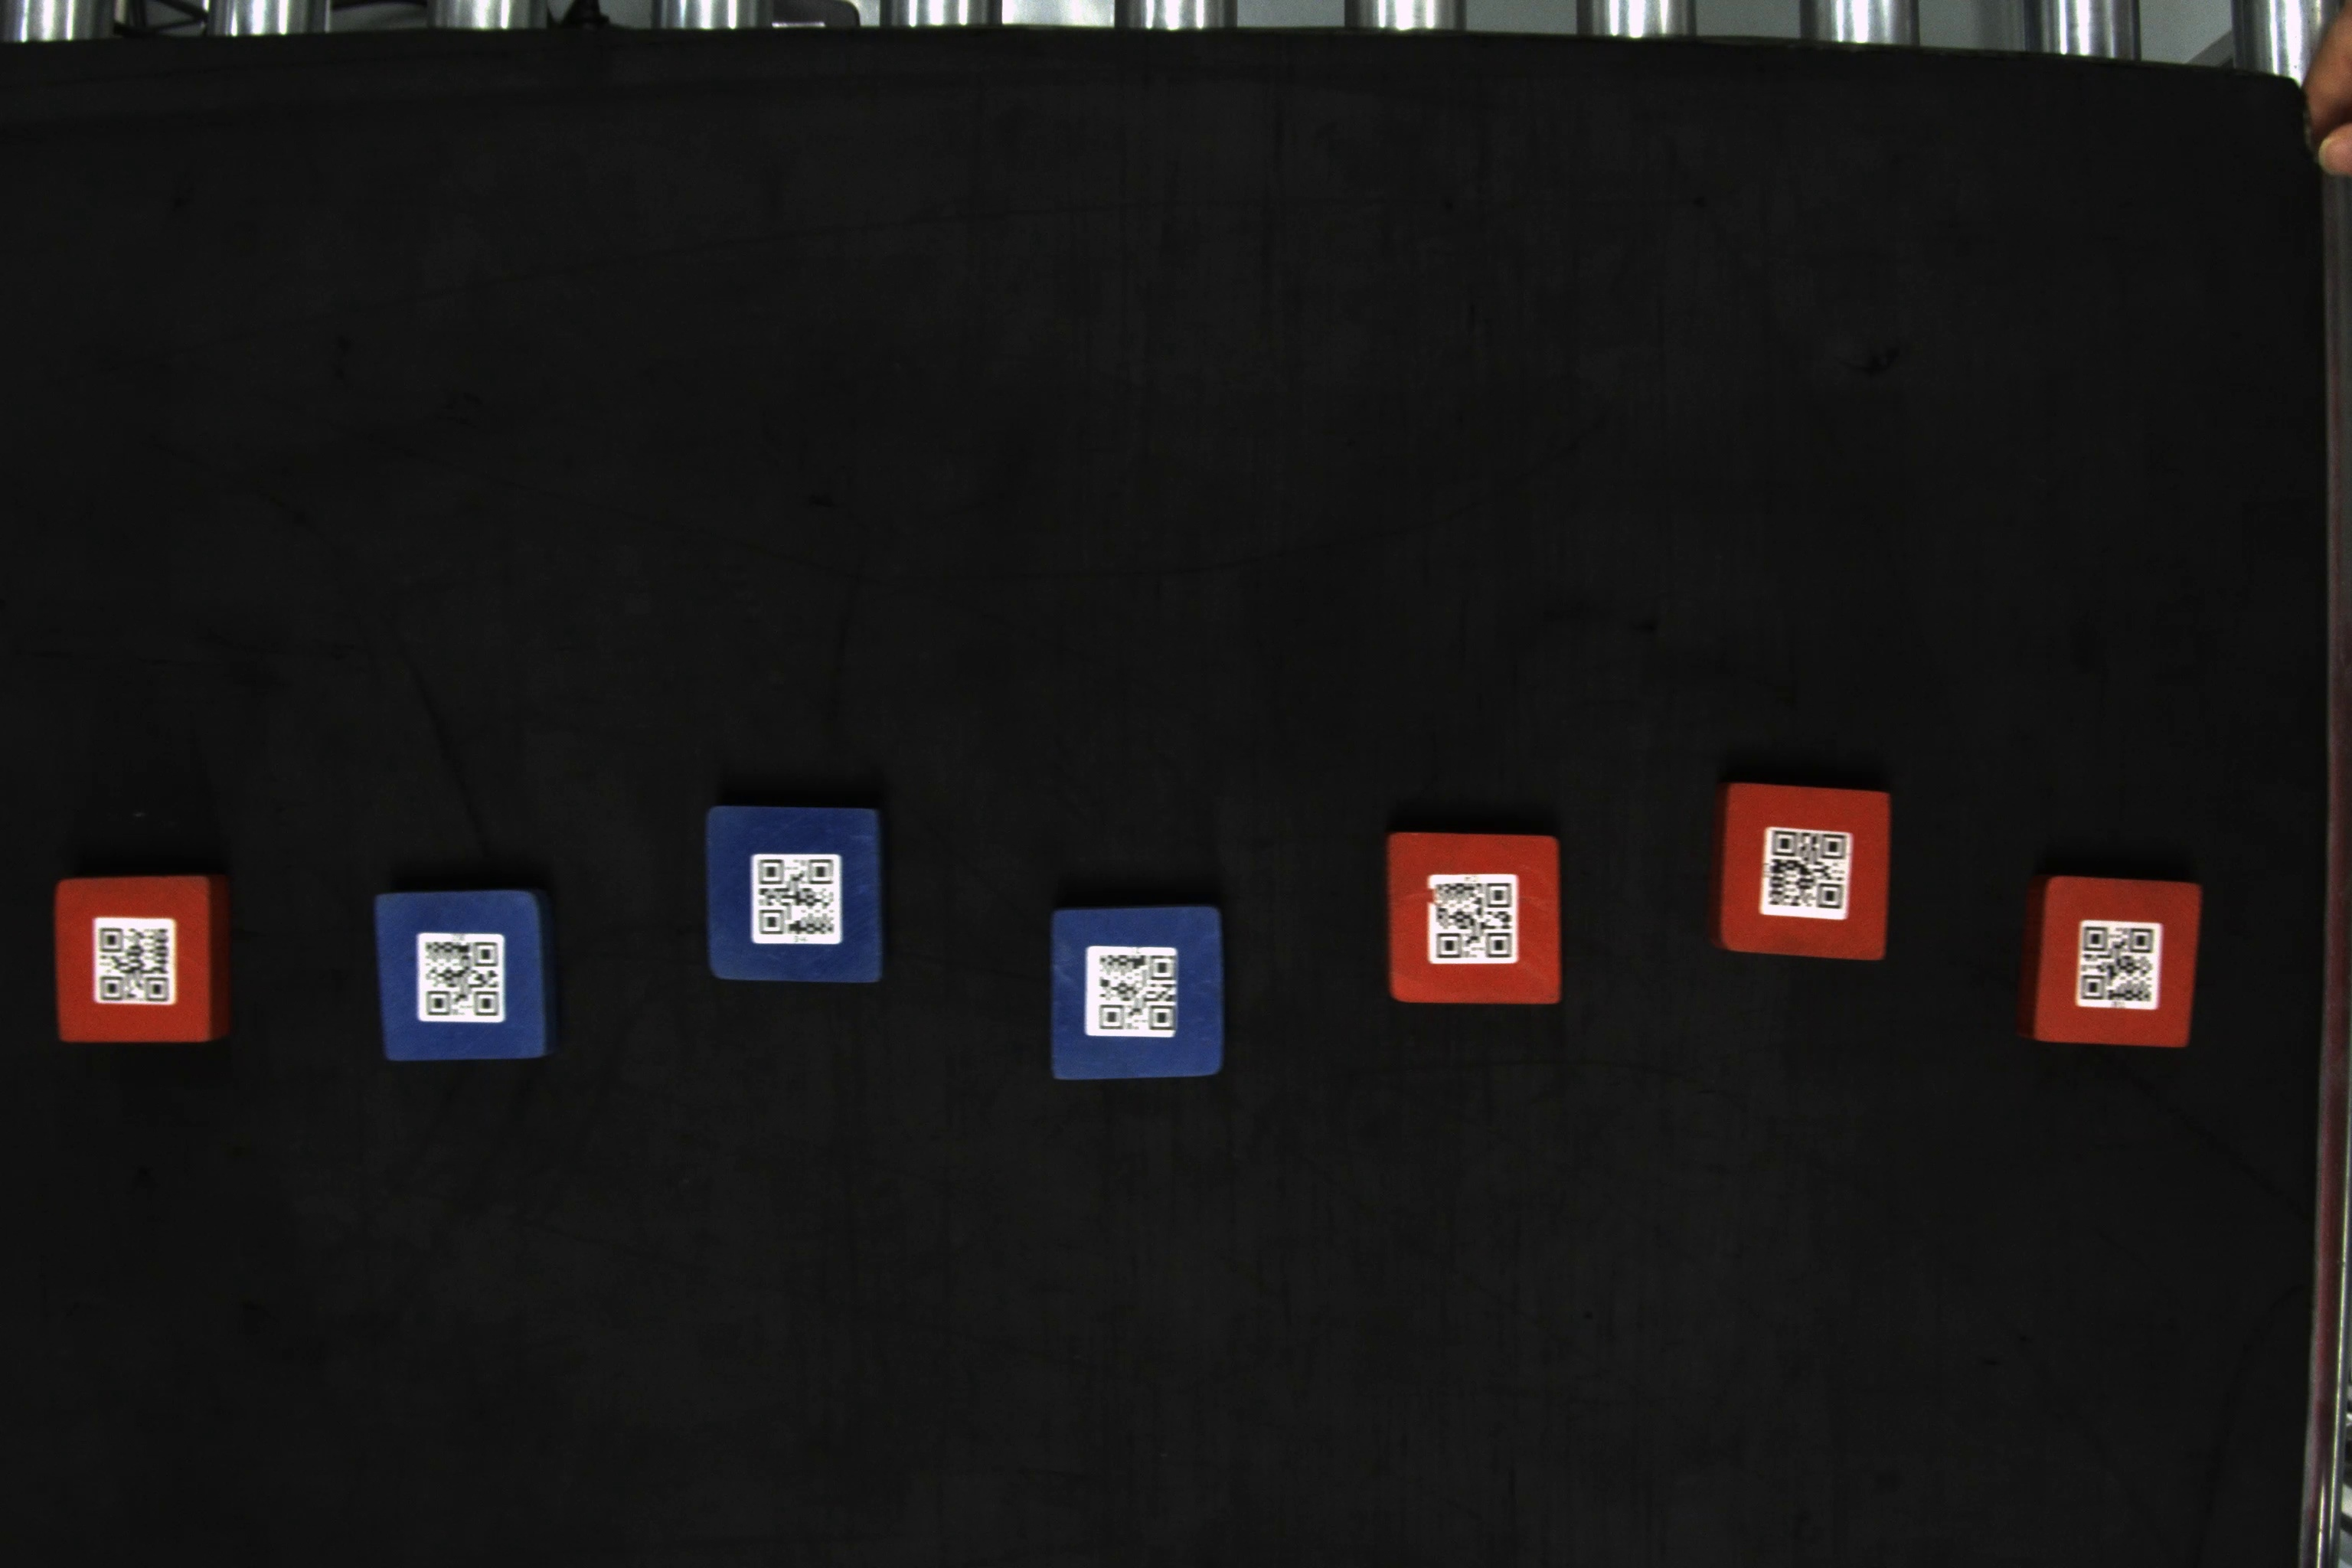wood: (696, 798, 896, 992), (1379, 826, 1571, 1015), (1710, 775, 1893, 966), (2021, 861, 2201, 1055), (1045, 906, 1232, 1087), (45, 870, 234, 1046), (367, 891, 560, 1062)
